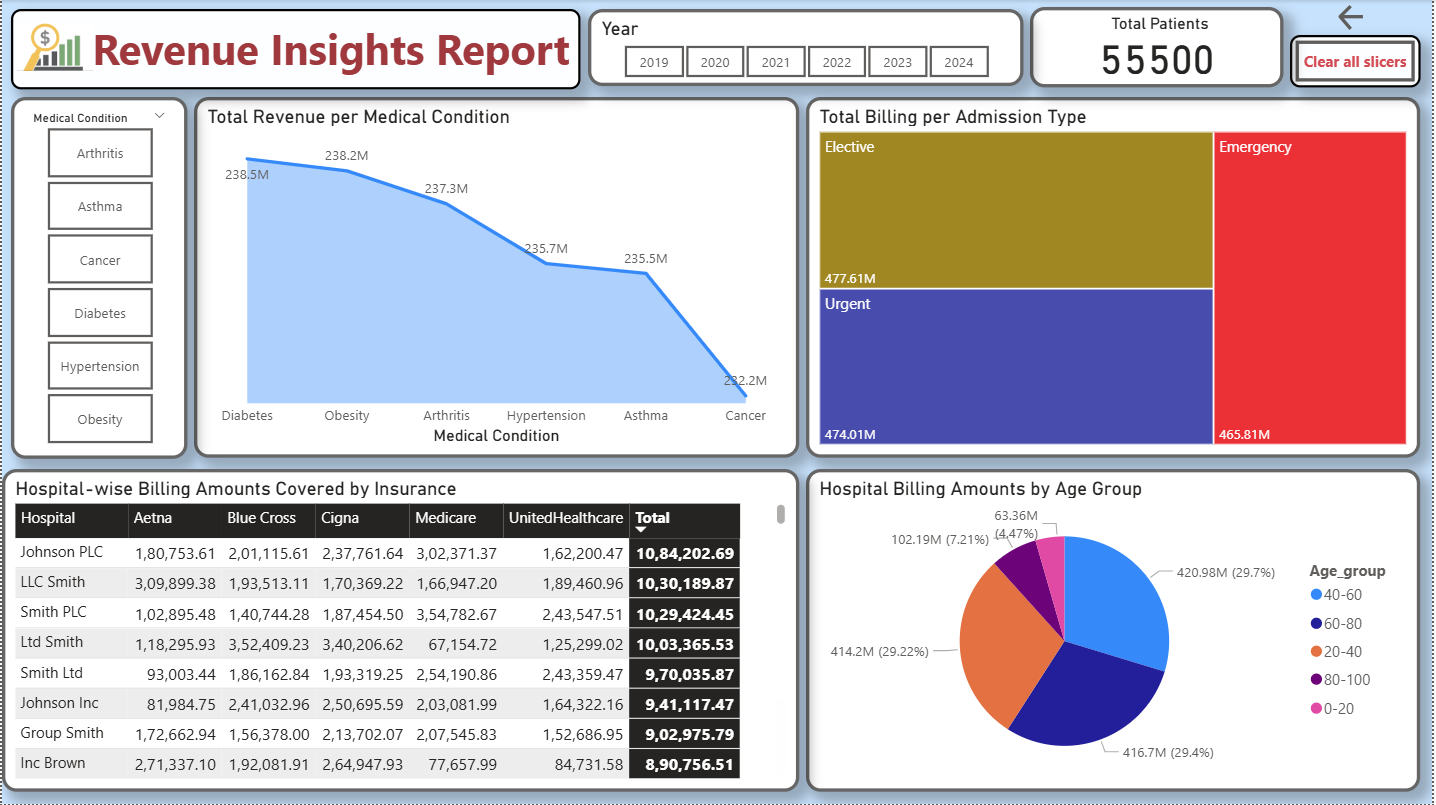

This screenshot's page, from the dashboard's own definition file:
{"tool":"powerbi","page":{"name":"Revenueswise Analysis","canvas":[1280,720],"ordinal":2},"visuals":[{"type":"areaChart","title":"Total Revenue per Medical Condition","fields":{"Category":["healthcare_dataset.Medical Condition"],"Y":["Sum(healthcare_dataset.Billing Amount)"]},"box":[171.9,86.9,541.8,323.3],"z":0},{"type":"textbox","box":[8.1,8.1,510.4,71.6],"z":1000},{"type":"slicer","fields":{"Values":["healthcare_dataset.Medical Condition"]},"box":[7.8,86.6,157.6,323.9],"z":5000},{"type":"treemap","title":"Total Billing per Admission Type","fields":{"Group":["healthcare_dataset.Admission Type"],"Values":["Sum(healthcare_dataset.Billing Amount)"]},"box":[720,86.9,549.9,323.3],"z":6000},{"type":"actionButton","box":[1153.6,31.1,116.7,46.7],"z":7000},{"type":"actionButton","box":[1192.8,0,57.3,31.3],"z":9000},{"type":"pieChart","title":"Hospital Billing Amounts by Age Group","fields":{"Category":["healthcare_dataset.Age_group"],"Y":["Sum(healthcare_dataset.Billing Amount)"]},"box":[720,420,549.9,289.3],"z":10000},{"type":"pivotTable","title":"Hospital-wise Billing Amounts Covered by Insurance","fields":{"Rows":["healthcare_dataset.Hospital"],"Values":["Sum(healthcare_dataset.Billing Amount)"],"Columns":["healthcare_dataset.Insurance Provider"]},"box":[0,420,713.7,289.3],"z":11000},{"type":"card","title":"Total Patients","fields":{"Values":["healthcare_dataset.Total_patients"]},"box":[920.6,6.3,226.6,71.6],"z":12000},{"type":"slicer","title":"Year","fields":{"Values":["healthcare_dataset.Year"]},"box":[524.8,8.1,389.6,69],"z":13000},{"type":"image","box":[8.1,12.5,78.8,58.2],"z":13001}]}

Visuals, with their boxes in screenshot pixels (x1, y1, x2, y2), scaled from the page's 1280x720 canvas onto the 1436x805 screenshot:
"Total Revenue per Medical Condition" areaChart: <bbox>193, 97, 801, 459</bbox>
textbox: <bbox>9, 9, 582, 89</bbox>
slicer - healthcare_dataset.Medical Condition: <bbox>9, 97, 186, 459</bbox>
"Total Billing per Admission Type" treemap: <bbox>808, 97, 1425, 459</bbox>
actionButton: <bbox>1294, 35, 1425, 87</bbox>
actionButton: <bbox>1338, 0, 1402, 35</bbox>
"Hospital Billing Amounts by Age Group" pieChart: <bbox>808, 470, 1425, 793</bbox>
"Hospital-wise Billing Amounts Covered by Insurance" pivotTable: <bbox>0, 470, 801, 793</bbox>
"Total Patients" card: <bbox>1033, 7, 1287, 87</bbox>
"Year" slicer: <bbox>589, 9, 1026, 86</bbox>
image: <bbox>9, 14, 97, 79</bbox>
